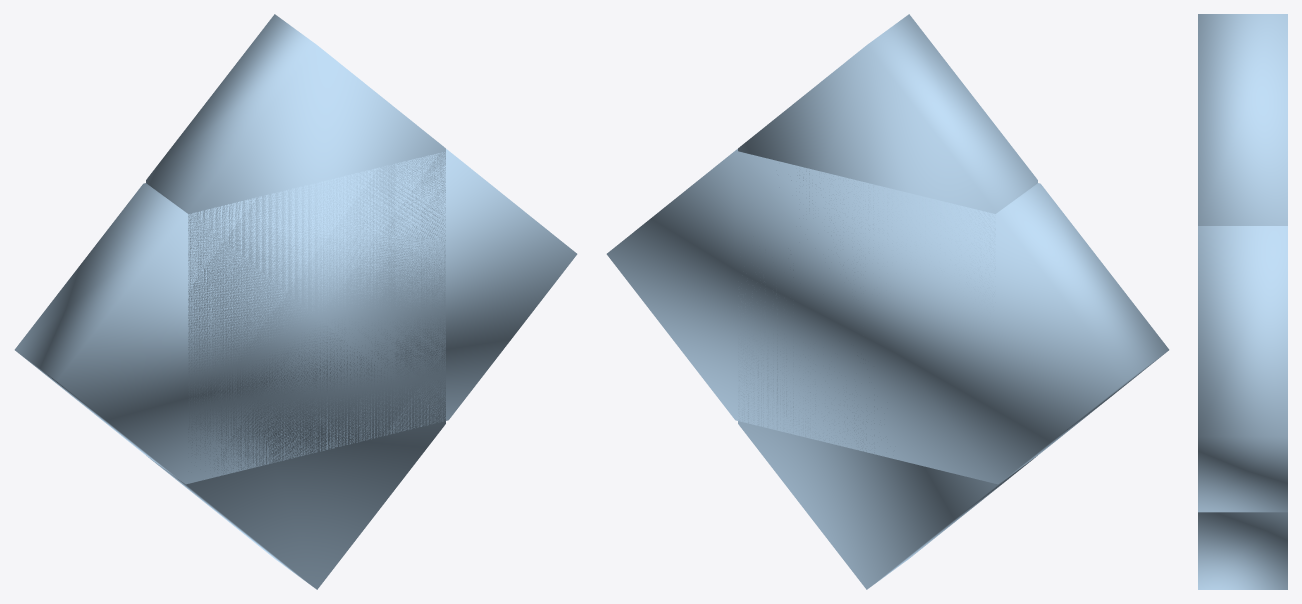
Rendered from staurolite-cross-90.glb.
The picture shows the model from 3 angles, left to right: view 1: azimuth 30°, elevation 25°; view 2: azimuth 150°, elevation 25°; view 3: azimuth 270°, elevation 25°; orthographic projection. The views are drawn at different scales.
Visible parts, largest first — view 1: staurolite-cross-90; view 2: staurolite-cross-90; view 3: staurolite-cross-90.
Part boxes in pixels (left/top/right/bottom): staurolite-cross-90: left=14, top=14, right=577, bottom=589; staurolite-cross-90: left=606, top=14, right=1169, bottom=589; staurolite-cross-90: left=1198, top=14, right=1287, bottom=589.
Bounding box in the file's own units: 2.83 × 2.83 × 0.4.
